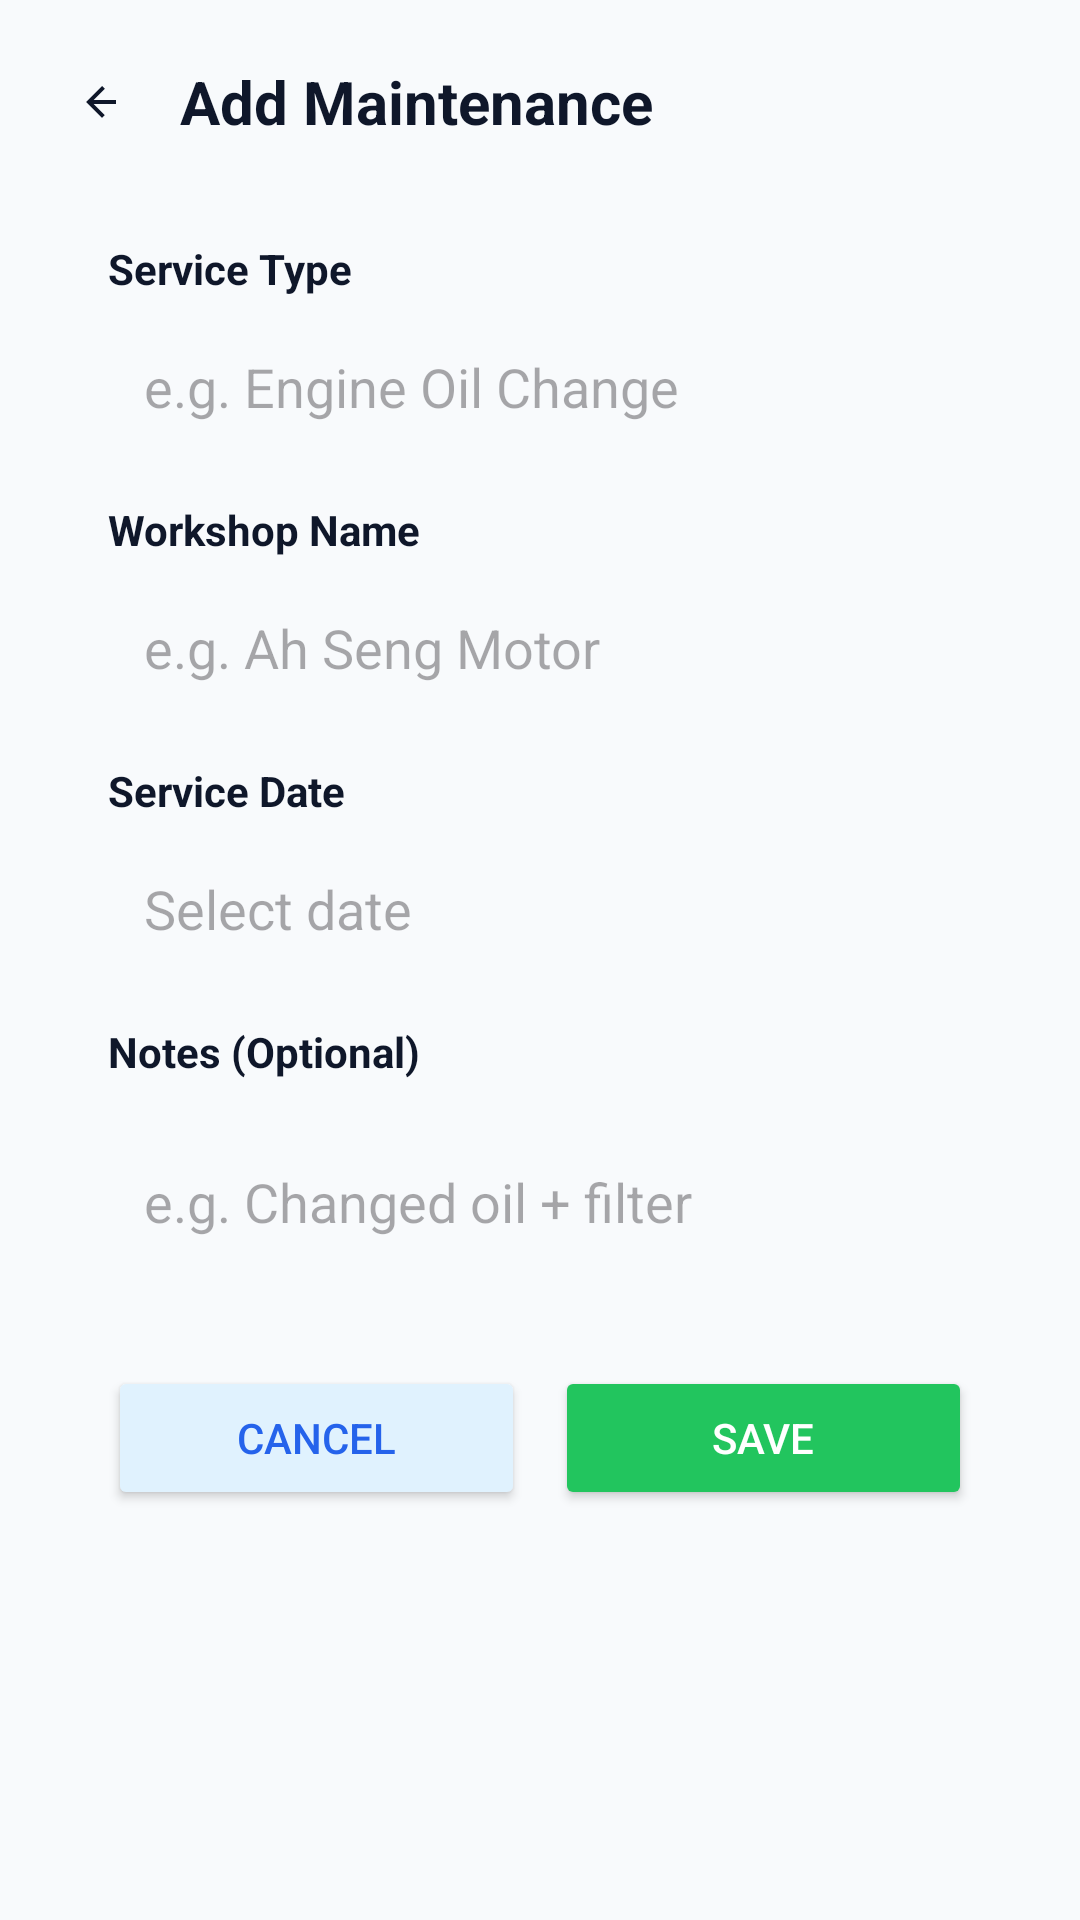

Icons on this 1080×1920 Android screen, each with its box as rect(x1, y1, x2, y2):
back: rect(86, 86, 116, 118)
